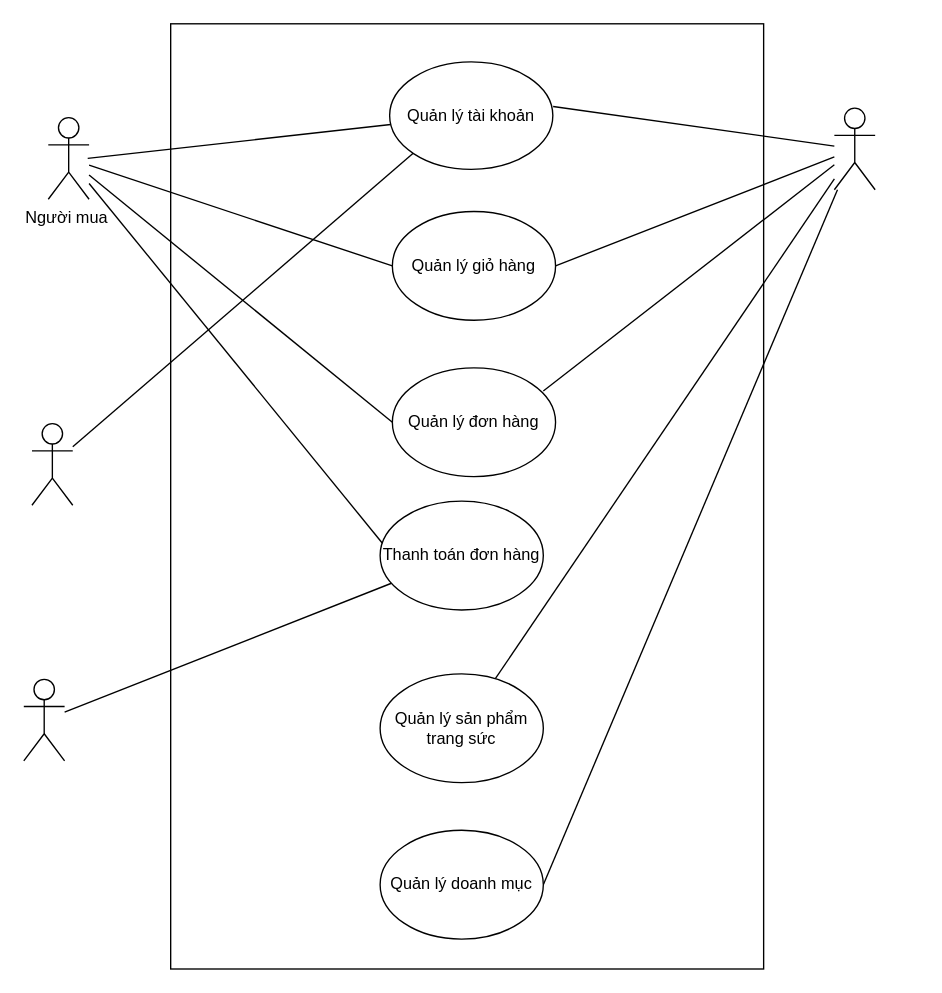
Some shapes in this 942 by 993 pixel diagram are drawn without their labels. The box of each missing label's shape, as (x1, y1, x2, y2) in pixels:
Clerk: (31, 422, 73, 505)
Quản lý hệ thống: (833, 107, 875, 190)
Stripe: (22, 678, 65, 761)
